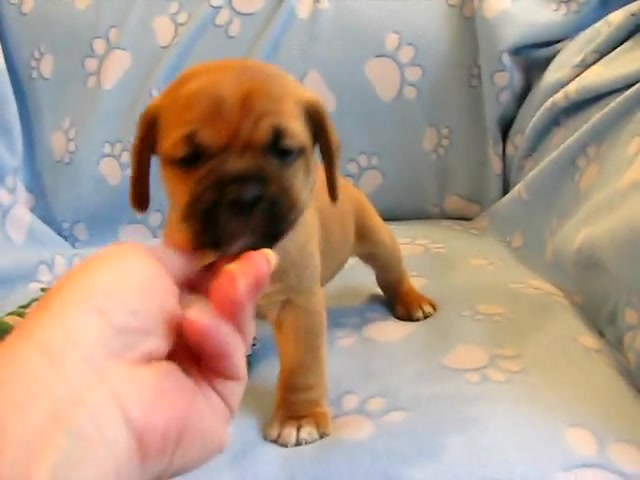dog: (128, 60, 438, 450)
